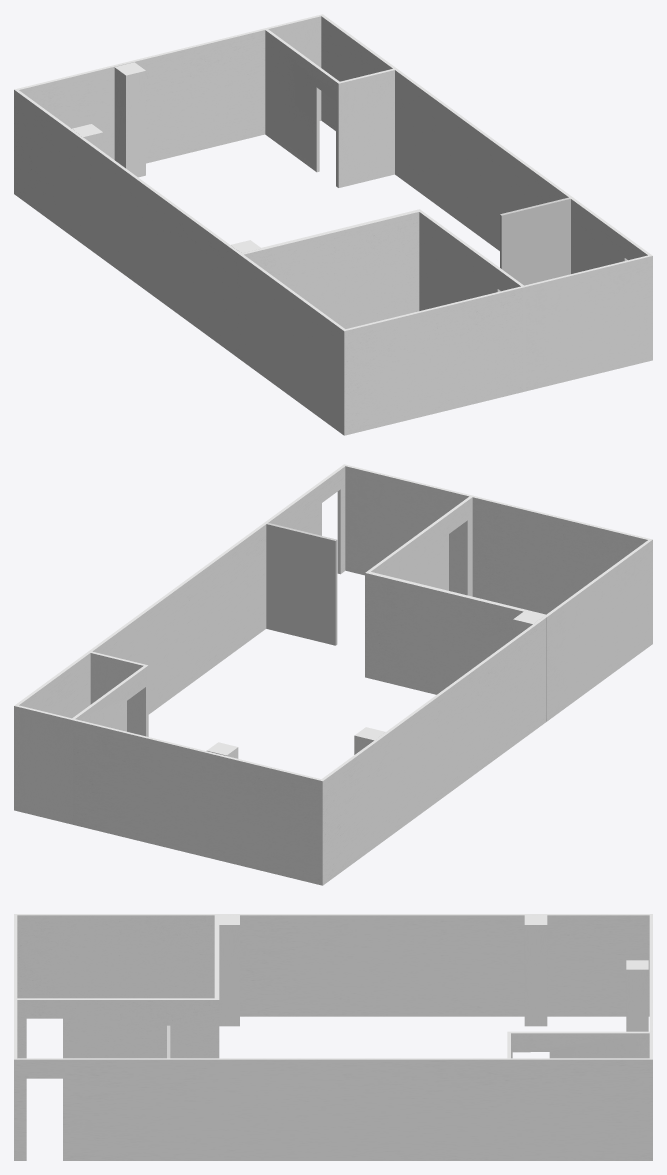
File: Office Walls.FBX
3 renders of one model, top to bottom at view 1: azimuth 30°, elevation 25°; view 2: azimuth 150°, elevation 25°; view 3: azimuth 270°, elevation 25°, orthographic. The views are drawn at different scales.
Visible parts, largest first — view 1: ExteriorWall01, MeetingRoomFrontWall, GlassPanel; view 2: ExteriorWall01, MeetingRoomFrontWall, GlassPanel; view 3: ExteriorWall01, MeetingRoomFrontWall.
Part boxes in pixels (<box>): ExteriorWall01: <box>14,14,652,435</box>; MeetingRoomFrontWall: <box>238,209,419,328</box>; GlassPanel: <box>500,197,570,285</box>; ExteriorWall01: <box>14,464,652,885</box>; MeetingRoomFrontWall: <box>365,571,546,721</box>; GlassPanel: <box>266,523,337,645</box>; ExteriorWall01: <box>14,914,652,1160</box>; MeetingRoomFrontWall: <box>214,914,219,999</box>.
Bounding box in the file's own units: 771 × 1428 × 250.
1 material, 1 textured.
